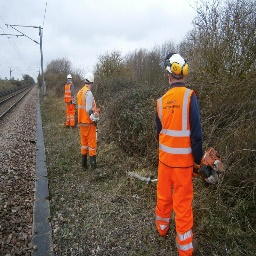helmet: (162, 52, 192, 78), (83, 72, 96, 86), (67, 74, 73, 80)
person: (151, 47, 206, 256), (75, 66, 104, 174), (63, 73, 78, 131)
vest: (156, 86, 198, 169), (77, 87, 98, 127), (65, 83, 75, 105)
